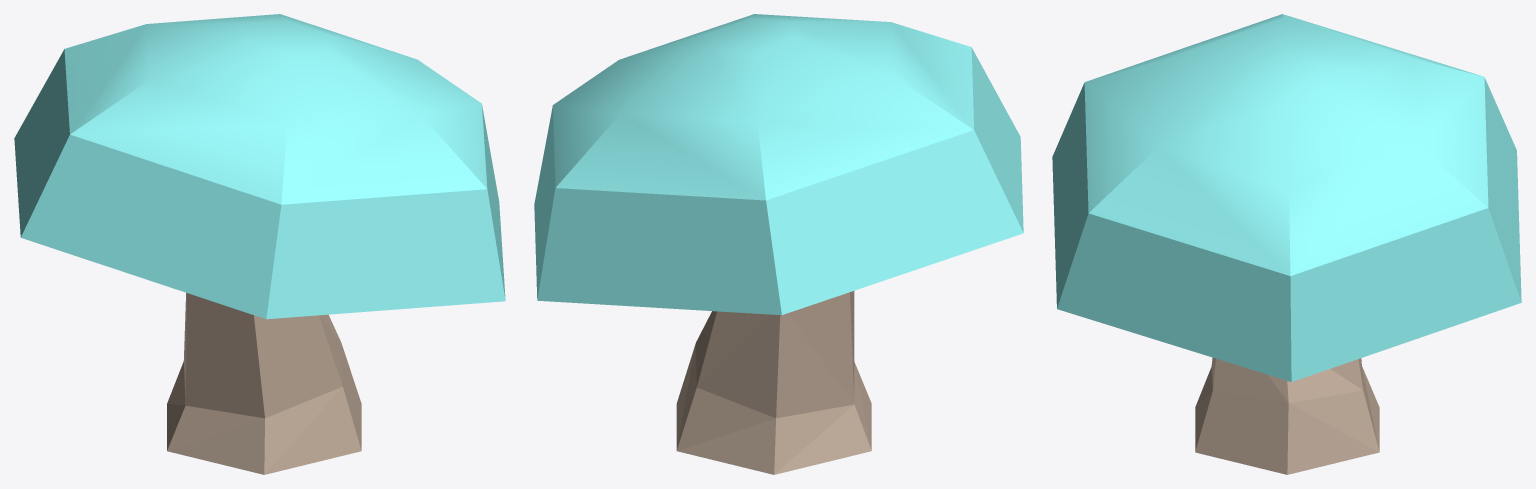
The model's file is Vegetation_Mushroom_Blue_05.fbx.
3 views of the same model, side by side, from view 1: azimuth 30°, elevation 25°; view 2: azimuth 150°, elevation 25°; view 3: azimuth 270°, elevation 25° (orthographic). The views are drawn at different scales.
Parts seen in each view (by area): view 1: Vegetation_Mushroom_Blue_05; view 2: Vegetation_Mushroom_Blue_05; view 3: Vegetation_Mushroom_Blue_05.
Part boxes in pixels (x1=…): Vegetation_Mushroom_Blue_05: x1=14, y1=14, x2=505, y2=474; Vegetation_Mushroom_Blue_05: x1=534, y1=14, x2=1023, y2=474; Vegetation_Mushroom_Blue_05: x1=1052, y1=14, x2=1521, y2=474.
Bounding box in the file's own units: 433 × 335 × 384.
